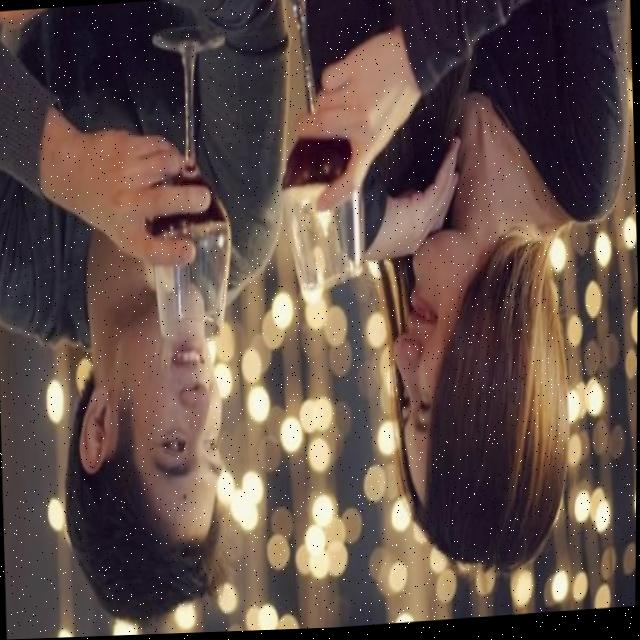eating-person: (279, 0, 640, 604), (0, 0, 306, 640)
